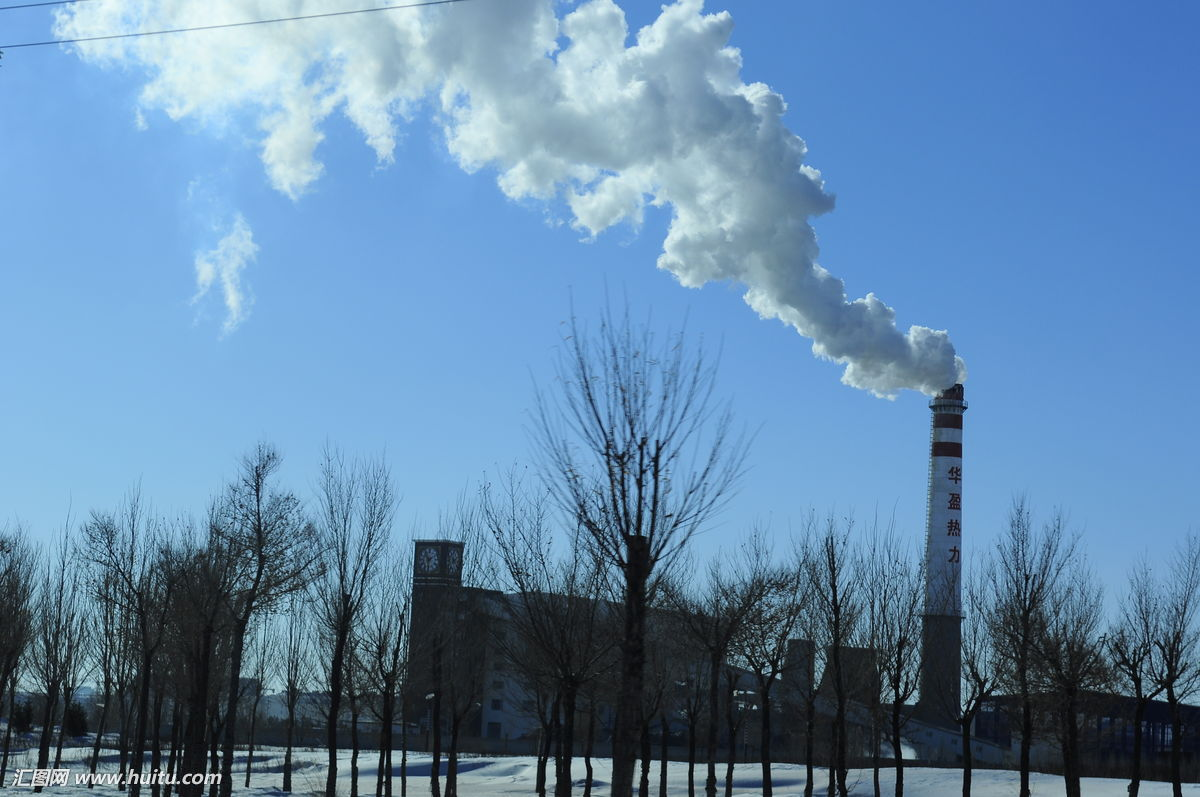dust: (622, 90, 988, 400)
